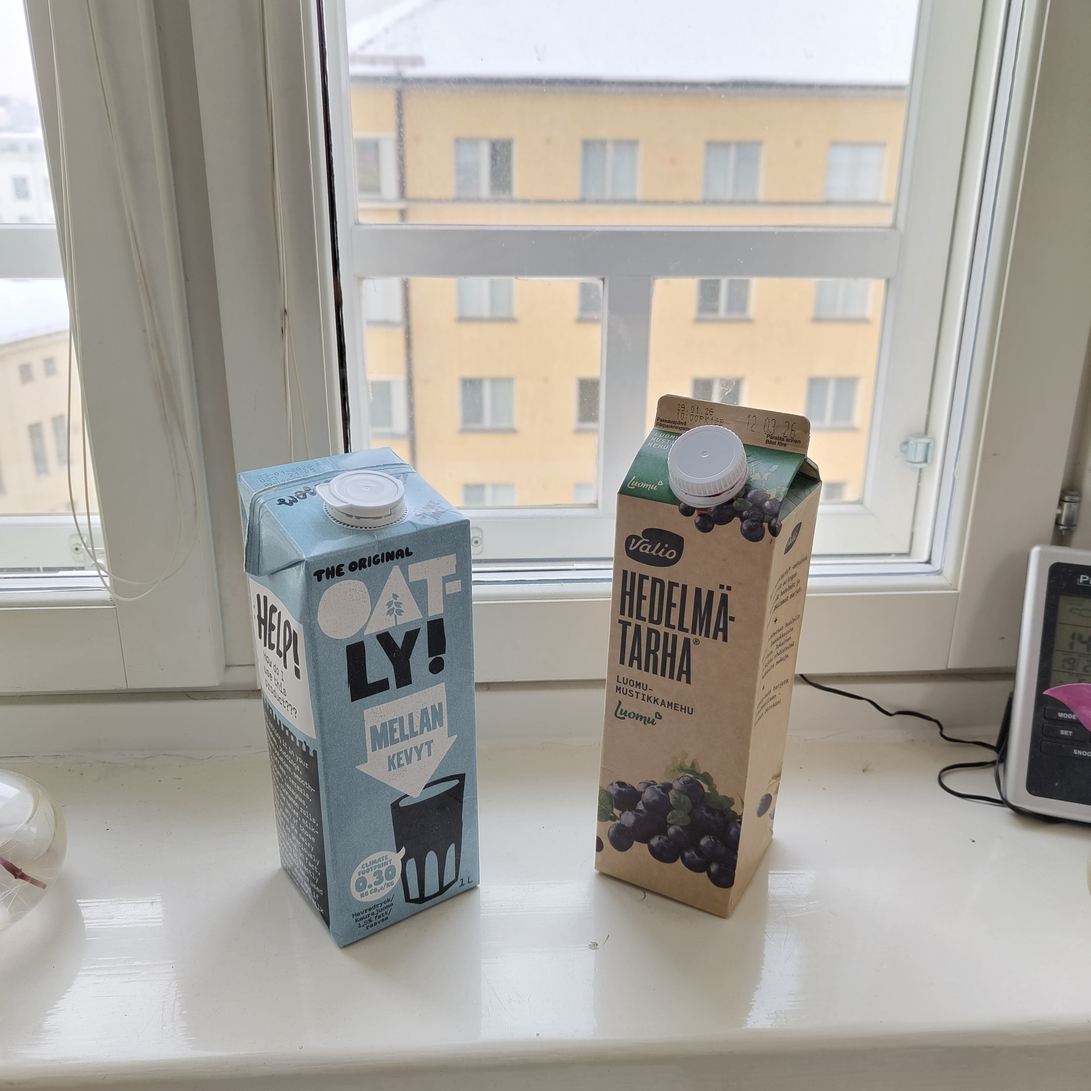Dryckeskartong: (237, 446, 481, 950), (595, 395, 824, 920)
